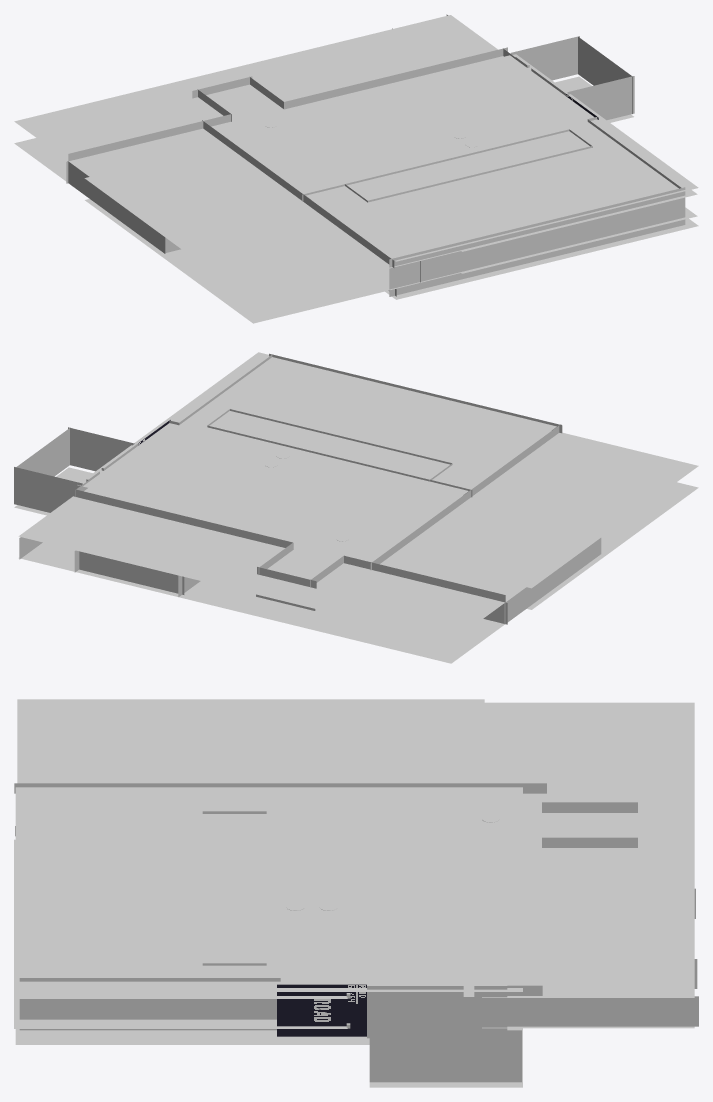
File: GolisanoHall_V1.1_Greybox_TEST_Greyboxing.fbx
The picture shows the model from 3 angles, top to bottom: view 1: azimuth 30°, elevation 25°; view 2: azimuth 150°, elevation 25°; view 3: azimuth 270°, elevation 25°; orthographic projection. The views are drawn at different scales.
Parts seen in each view (by area): view 1: 3F_Ceiling, 2F_CeilingNorth, 2F_CeilingWest, 3F_GroundWest, 3F_GroundNorth, Wall_1F_South, 2F_GroundWest, Wall_SpiralSouth, Wall_3F_NorthEast, Wall_2F_Offices3, Wall_SpiralNorth, 1F_Floor (+9 smaller); view 2: 3F_Ceiling, 2F_CeilingNorth, 2F_CeilingWest, 3F_GroundNorth, 3F_GroundWest, 1F_CeilingNorth, Wall_SpiralNorth, Wall_2F_IgmLab3, Wall_2F_Offices3, Wall_3F_NorthEast, Wall_SpiralSouth, Wall_3F_West (+9 smaller); view 3: 3F_Ceiling, 2F_CeilingNorth, 2F_CeilingWest, 3F_GroundNorth, 3F_GroundWest, Wall_SpiralEast, Wall_1F_SouthEast, Wall_2F_East, 1F_Floor, Wall_SpiralWest, Wall_1F_AtriumEast, Wall_3F_West (+7 smaller).
Part boxes in pixels (x1,y1,x2,y2): 3F_Ceiling: [213, 54, 698, 261]; 2F_CeilingNorth: [14, 15, 455, 176]; 2F_CeilingWest: [84, 142, 312, 281]; 3F_GroundWest: [181, 197, 461, 301]; 3F_GroundNorth: [91, 15, 503, 176]; Wall_1F_South: [389, 187, 685, 296]; 2F_GroundWest: [166, 253, 461, 323]; Wall_SpiralSouth: [567, 76, 634, 120]; Wall_3F_NorthEast: [284, 47, 507, 109]; Wall_2F_Offices3: [67, 161, 165, 253]; Wall_SpiralNorth: [510, 36, 579, 80]; 1F_Floor: [385, 218, 698, 299]; 3F_Ceiling: [77, 352, 556, 558]; 2F_CeilingNorth: [18, 533, 525, 641]; 2F_CeilingWest: [385, 493, 650, 588]; 3F_GroundNorth: [20, 488, 470, 575]; 3F_GroundWest: [457, 431, 698, 505]; 1F_CeilingNorth: [23, 557, 504, 663]; Wall_SpiralNorth: [14, 467, 82, 512]; Wall_2F_IgmLab3: [79, 551, 184, 594]; Wall_2F_Offices3: [504, 538, 601, 624]; Wall_3F_NorthEast: [71, 488, 293, 549]; Wall_SpiralSouth: [68, 427, 134, 471]; Wall_3F_West: [370, 424, 561, 570]; 3F_Ceiling: [15, 787, 522, 991]; 2F_CeilingNorth: [484, 702, 694, 956]; 2F_CeilingWest: [58, 699, 484, 783]; 3F_GroundNorth: [482, 722, 694, 997]; 3F_GroundWest: [17, 699, 260, 783]; Wall_SpiralEast: [369, 1030, 521, 1082]; Wall_1F_SouthEast: [19, 978, 280, 1030]; Wall_2F_East: [523, 996, 698, 1026]; 1F_Floor: [15, 992, 522, 1044]; Wall_SpiralWest: [367, 984, 463, 1038]; Wall_1F_AtriumEast: [277, 984, 366, 1036]; Wall_3F_West: [14, 783, 546, 793].
Size of the model in its own units: 353056 by 27000 by 297117.
